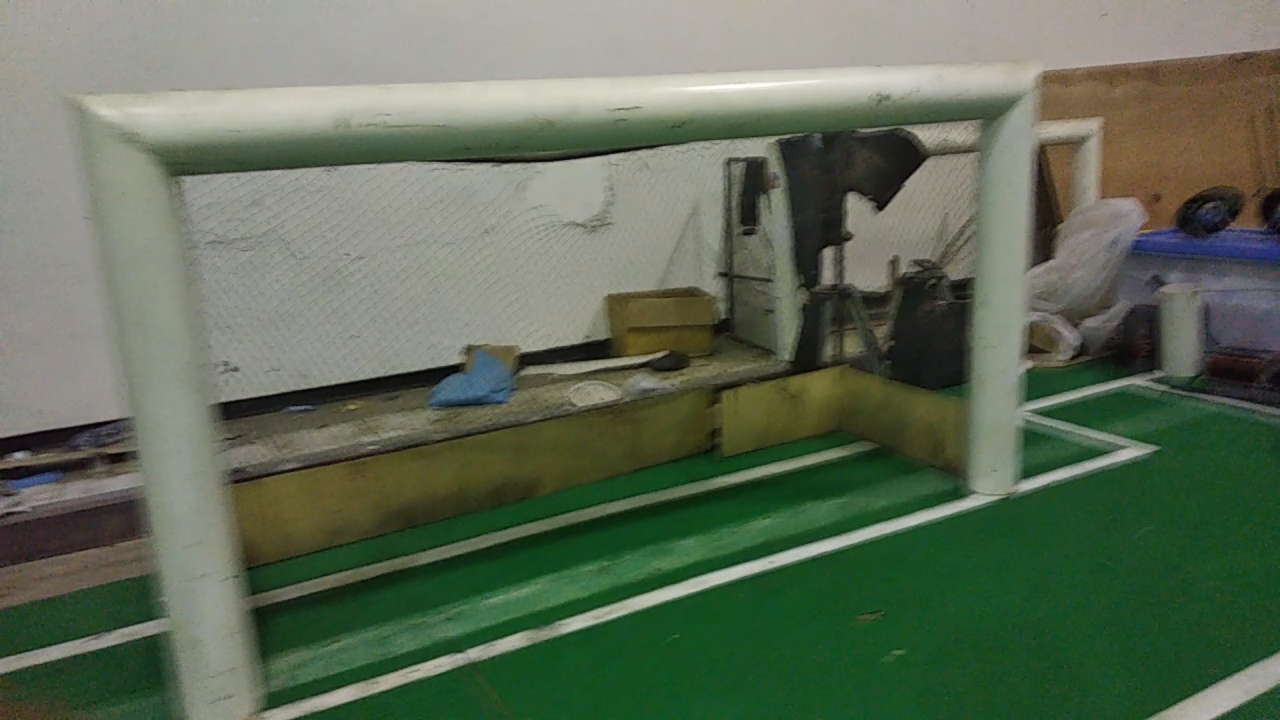gawang: (54, 37, 1049, 716)
